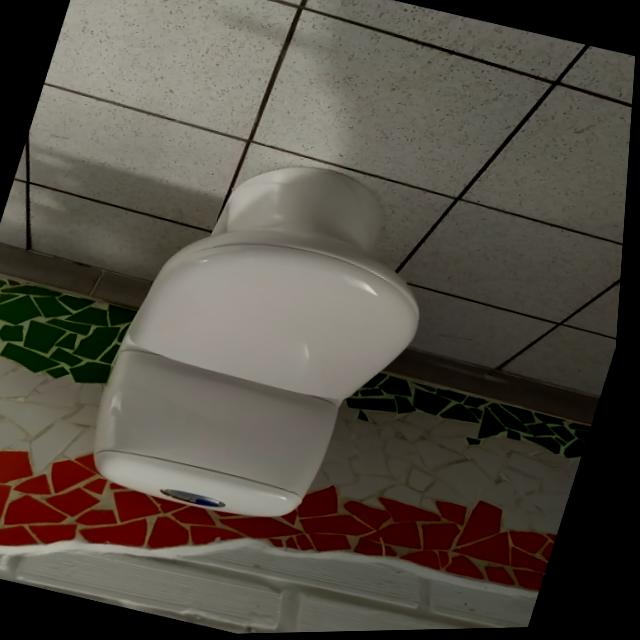toilet: (76, 131, 465, 550)
